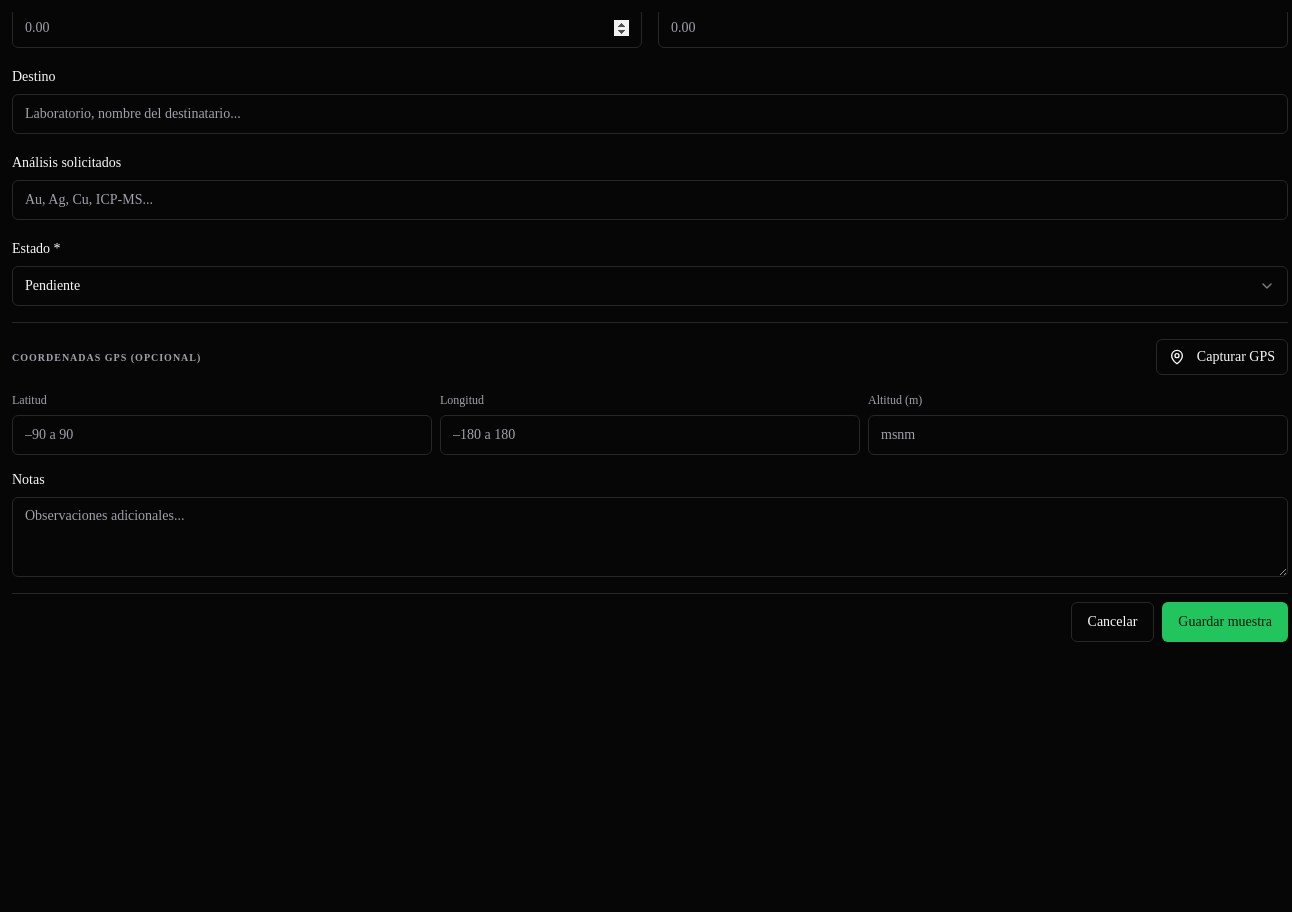
Test: SampleForm › shows validation errors when submitting empty
The width and height of the screenshot is (1292, 912).
(page scrolled)
Click the button "Guardar muestra": (1225, 622) x1=1162 y1=602 x2=1288 y2=642
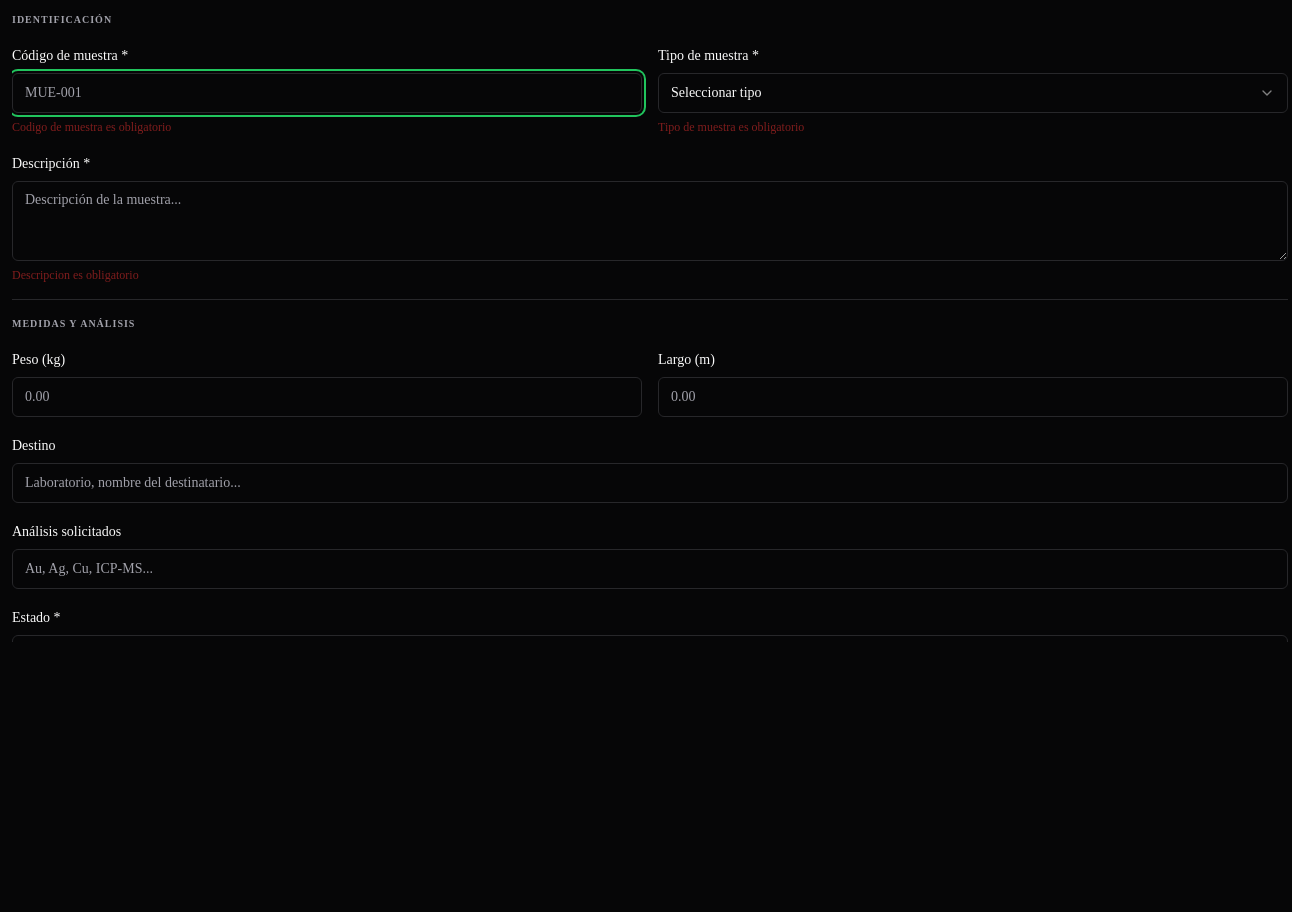
Check: the text "Codigo de muestra es obligatorio" is shown, box x1=12 y1=120 x2=171 y2=134
Check: the text "Tipo de muestra es obligatorio" is shown, box x1=658 y1=120 x2=804 y2=134
Check: the text "Descripcion es obligatorio" is shown, box x1=12 y1=268 x2=139 y2=282
